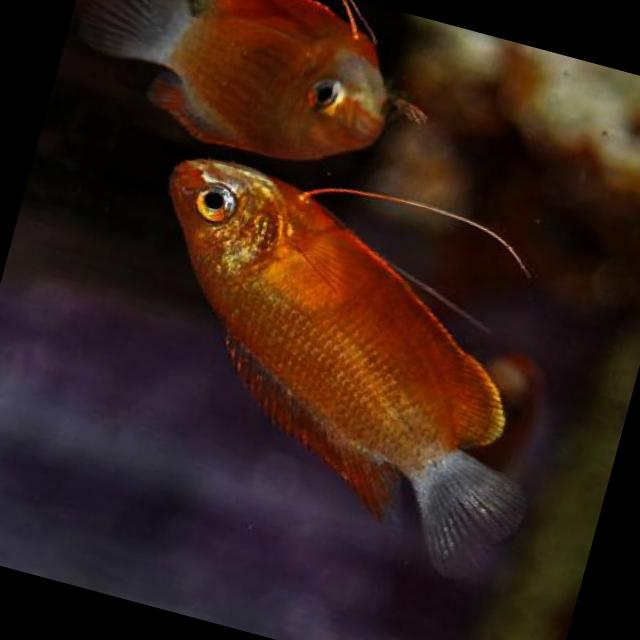Gourami: (79, 156, 590, 600), (52, 0, 419, 186)
